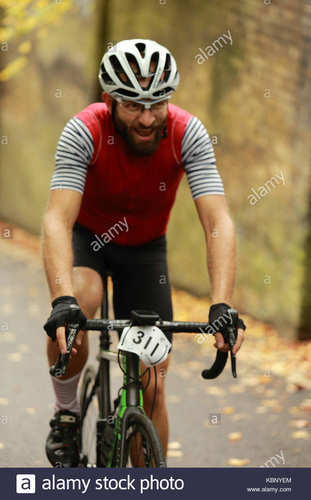bikerider: (20, 32, 254, 466)
